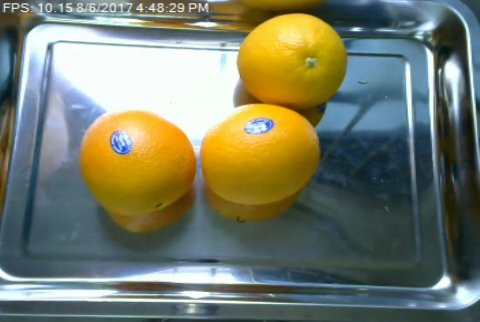Orange: (80, 108, 197, 216), (198, 104, 321, 204), (237, 12, 348, 106)
